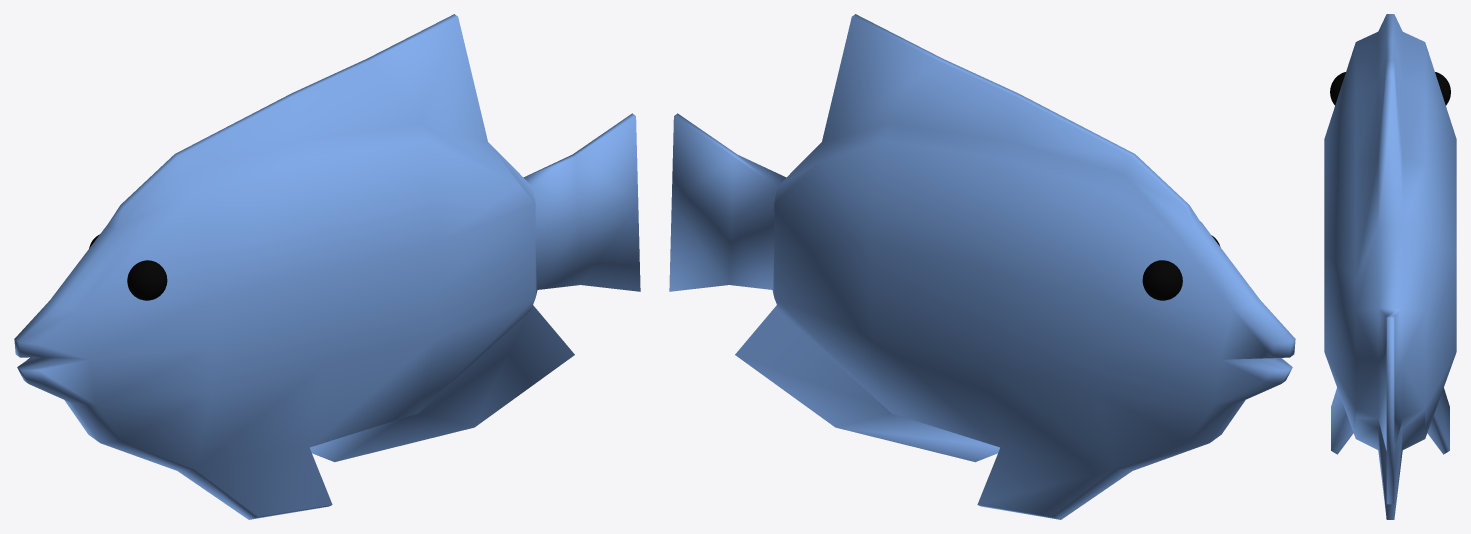
Rendered from fish1.FBX.
3 views of the same model, side by side, from view 1: azimuth 30°, elevation 25°; view 2: azimuth 150°, elevation 25°; view 3: azimuth 270°, elevation 25° (orthographic). The views are drawn at different scales.
Visible parts, largest first — view 1: Box001, Sphere002; view 2: Box001, Sphere001; view 3: Box001, Sphere001, Sphere002.
Boxes of the visible parts, x1,y1,x2,y2 form: Box001: (14,14,640,519); Sphere002: (127,260,167,300); Box001: (669,14,1295,519); Sphere001: (1142,260,1182,300); Box001: (1324,14,1456,519); Sphere001: (1435,72,1450,105); Sphere002: (1330,72,1345,105).
Bounding box in the file's own units: 225 × 150 × 40.03.
